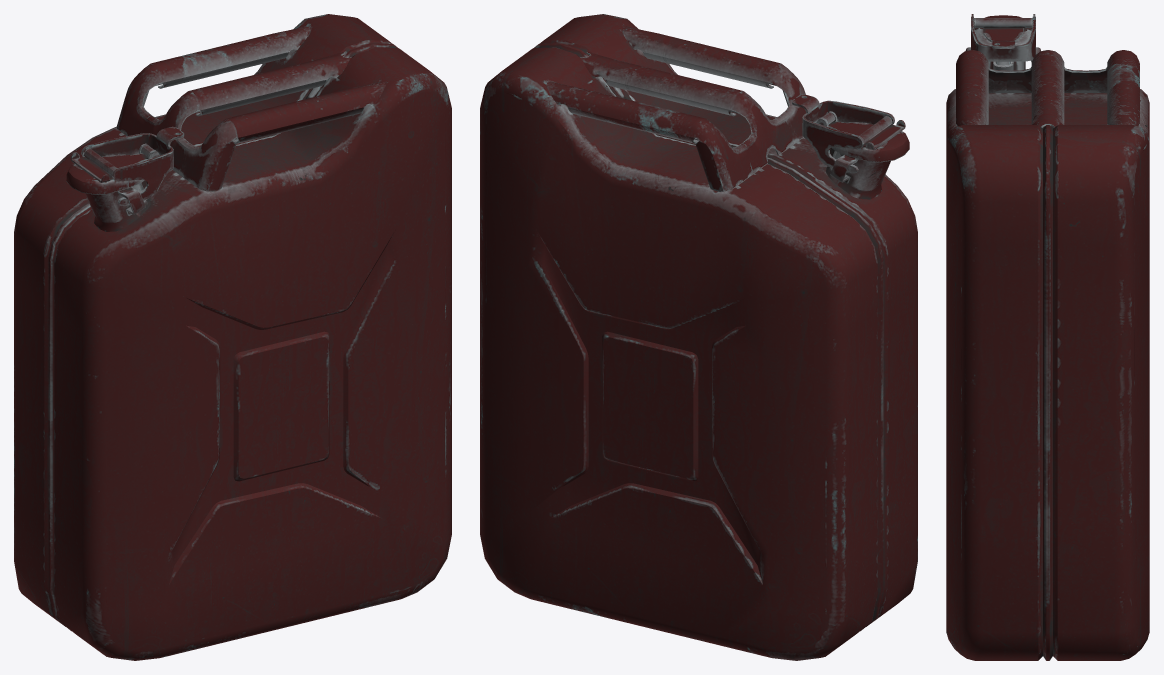
The model's file is fuel_can_2k.glb.
The picture shows the model from 3 angles, left to right: view 1: azimuth 30°, elevation 25°; view 2: azimuth 150°, elevation 25°; view 3: azimuth 270°, elevation 25°; orthographic projection.
Parts seen in each view (by area): view 1: can_master.001; view 2: can_master.001; view 3: can_master.001.
Boxes of the visible parts, x1=… form: can_master.001: x1=14, y1=14, x2=451, y2=660; can_master.001: x1=480, y1=14, x2=917, y2=660; can_master.001: x1=946, y1=14, x2=1149, y2=660.
Size of the model in its own units: 0.4325 by 0.5846 by 0.2062.
Materials: 1 (1 with a texture image).
